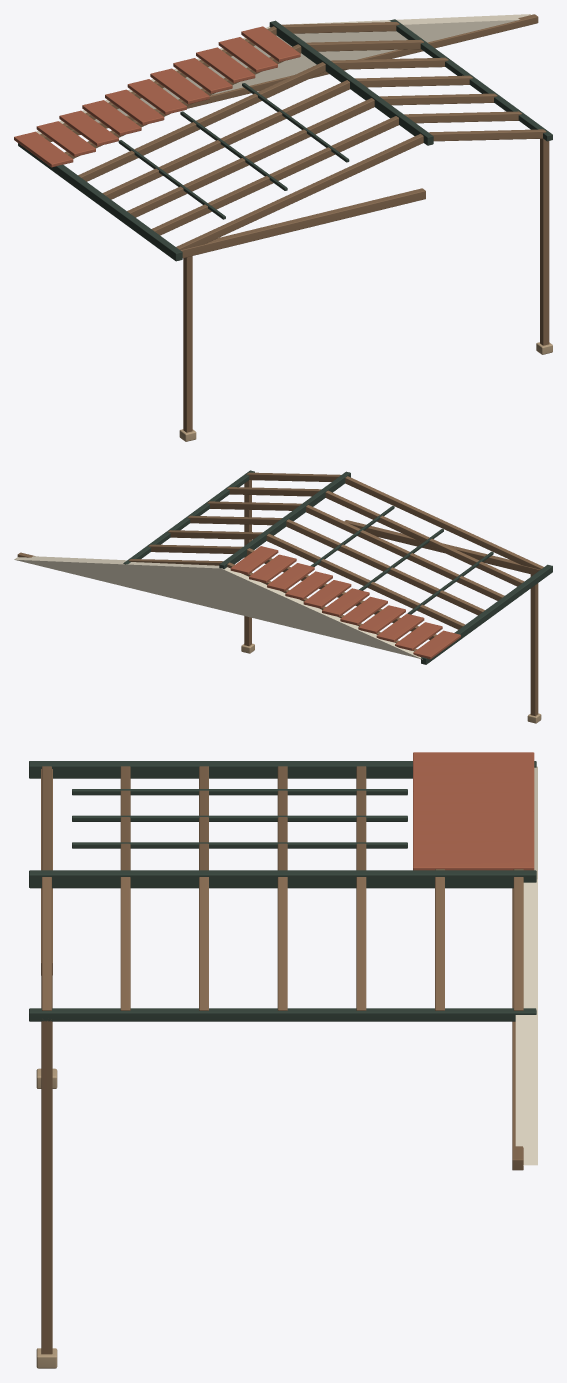
Rendered from atelier-roof.glb.
3 views of the same model, one above another, from view 1: azimuth 30°, elevation 25°; view 2: azimuth 150°, elevation 25°; view 3: azimuth 270°, elevation 25° (orthographic). The views are drawn at different scales.
Visible parts, largest first — view 1: Gable plaster, Facade header, Exposed timber rafter.006, Exposed timber rafter.002, Exposed timber rafter.004, Exposed timber rafter.005, Exposed timber rafter.003, Gable lintel, Ridge, Roof column.001, West eave, Roof column (+22 smaller); view 2: Gable plaster, Exposed timber rafter.006, Exposed timber rafter.002, Exposed timber rafter.003, Exposed timber rafter.005, Exposed timber rafter.004, Ridge, Facade header, West eave, Roof column, Cutaway roof edge, Cutaway rafter.001 (+21 smaller); view 3: Ridge, Cutaway roof edge, West eave, Gable plaster, Roof column.001, Standing seam clay roof.010, Skylight mullion.001, Skylight mullion.002, Skylight mullion, Cutaway rafter, Cutaway rafter.002, Cutaway rafter.005 (+20 smaller).
Part boxes in pixels (x1,y1,x2,y2): Gable plaster: [36, 14, 530, 134]; Facade header: [181, 188, 425, 258]; Exposed timber rafter.006: [176, 133, 423, 250]; Exposed timber rafter.002: [78, 62, 325, 181]; Exposed timber rafter.004: [127, 98, 374, 217]; Exposed timber rafter.005: [151, 116, 398, 235]; Exposed timber rafter.003: [102, 80, 349, 199]; Gable lintel: [43, 14, 538, 142]; Ridge: [269, 20, 433, 145]; Roof column.001: [540, 138, 549, 345]; West eave: [18, 143, 182, 261]; Roof column: [183, 256, 192, 432]; Gable plaster: [14, 556, 422, 659]; Exposed timber rafter.006: [345, 476, 543, 569]; Exposed timber rafter.002: [266, 533, 465, 629]; Exposed timber rafter.003: [286, 519, 484, 615]; Exposed timber rafter.005: [325, 490, 524, 586]; Exposed timber rafter.004: [306, 505, 504, 600]; Ridge: [219, 471, 350, 569]; Facade header: [344, 520, 540, 574]; West eave: [421, 564, 552, 664]; Roof column: [530, 574, 538, 716]; Cutaway roof edge: [123, 470, 254, 564]; Cutaway rafter.001: [148, 544, 242, 553]; Ridge: [29, 870, 536, 888]; Cutaway roof edge: [29, 1008, 536, 1021]; West eave: [29, 761, 536, 778]; Gable plaster: [515, 766, 537, 1165]; Roof column.001: [41, 1019, 52, 1354]; Standing seam clay roof.010: [413, 850, 534, 870]; Skylight mullion.001: [72, 815, 407, 821]; Skylight mullion.002: [72, 842, 407, 848]; Skylight mullion: [72, 789, 407, 795]; Cutaway rafter: [513, 877, 523, 1010]; Cutaway rafter.002: [356, 877, 366, 1010]; Cutaway rafter.005: [120, 877, 130, 1010].
Size of the model in its own units: 13.44 by 6.16 by 7.12.
